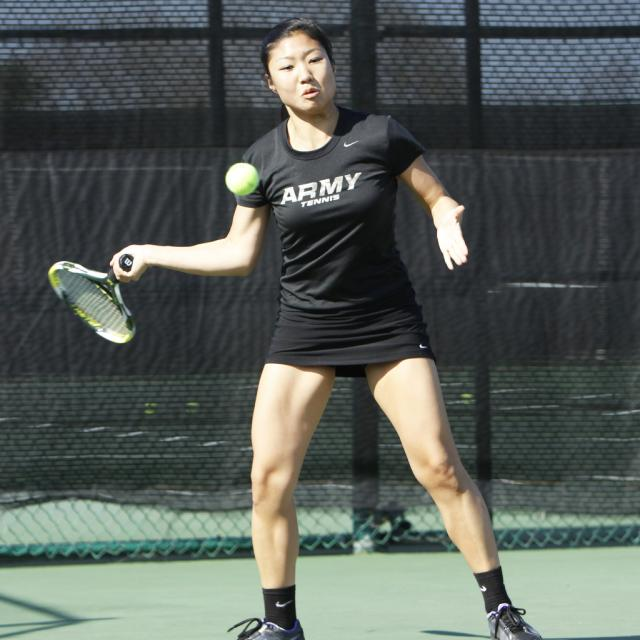Tennis ball: (227, 163, 259, 196)
